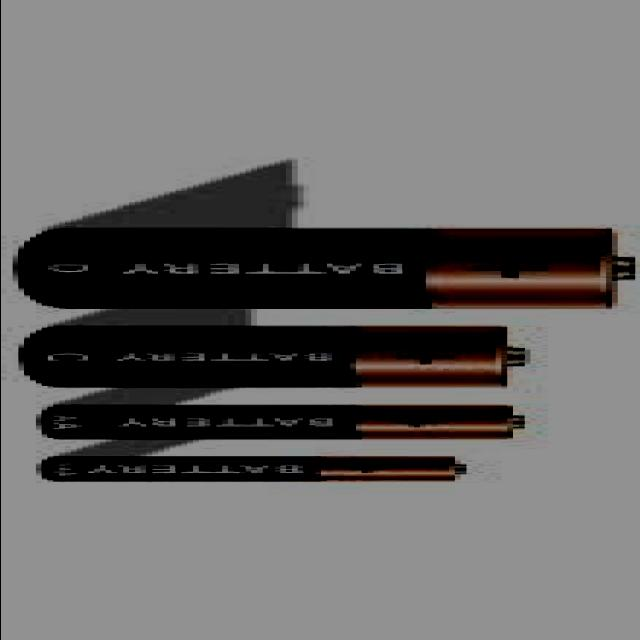AA: (47, 404, 530, 440)
AAA: (47, 454, 471, 482)
